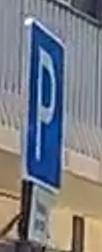Estacionamento autorizado: (22, 17, 65, 194)
